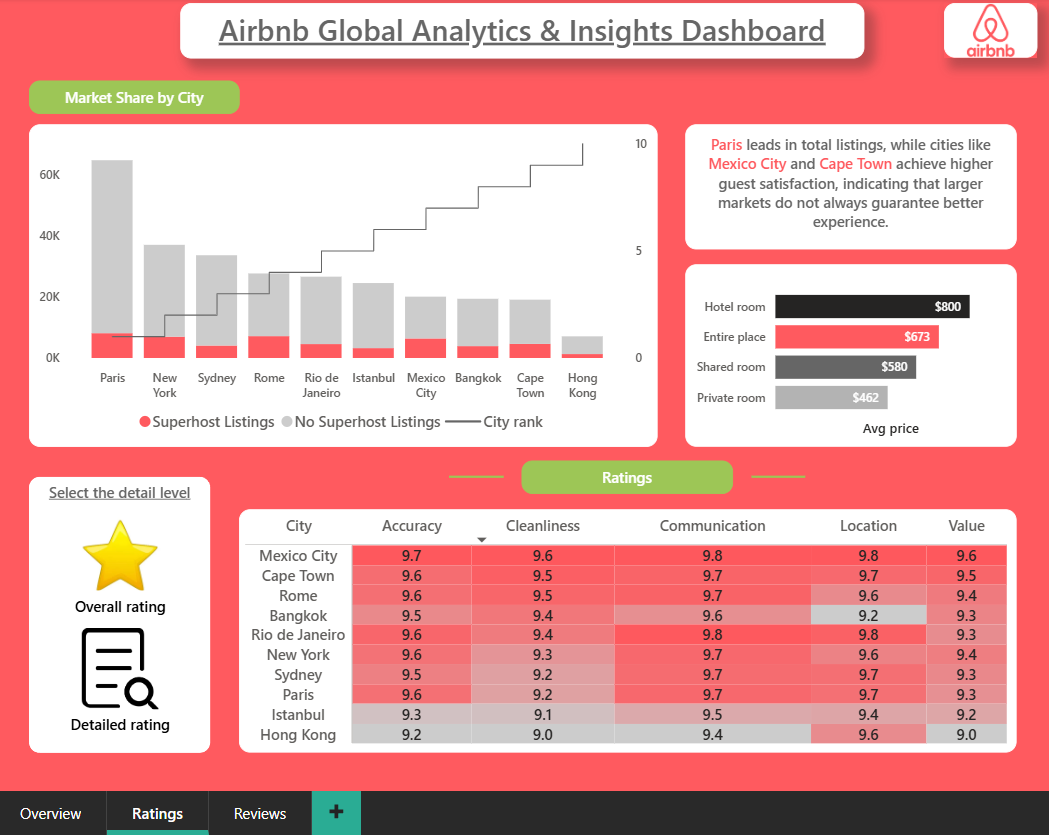

What the dashboard file says about the page in this screenshot:
{"tool":"powerbi","page":{"name":"Ratings","canvas":[960,720],"ordinal":1},"visuals":[{"type":"textbox","box":[169.4,5,621,50],"z":0},{"type":"image","box":[65.8,468.4,97.5,74.9],"z":0,"group":"g2"},{"type":"image","box":[75.2,571.6,79.6,76],"z":0,"group":"g1"},{"type":"image","box":[862,4.5,85.1,49.9],"z":1000},{"type":"textbox","box":[56.7,537.6,115.7,27.2],"z":1000,"group":"g2"},{"type":"textbox","box":[56.7,645.3,115.7,27.2],"z":1000,"group":"g1"},{"type":"textbox","box":[31.8,74.9,191,30],"z":2000},{"type":"lineStackedColumnComboChart","fields":{"Category":["Listings.city"],"Y":["Listings.Superhost Listings","Listings.No Superhost Listings"],"Y2":["Listings.City rank"]},"box":[31.8,114.6,570.5,292.6],"z":3000},{"type":"clusteredBarChart","fields":{"Category":["Listings.room_type"],"Y":["Listings.Average Price"]},"box":[627.2,241.6,300.6,165.6],"z":4000},{"type":"shape","box":[31.8,434.4,164.5,250.7],"z":5000},{"type":"shape","box":[412.9,415.1,49.9,38.6],"z":5125},{"type":"shape","box":[687.3,415.1,48.8,38.6],"z":5250},{"type":"textbox","box":[478.6,419.7,191.7,30],"z":5375},{"type":"textbox","box":[35.2,434.4,157.7,29.5],"z":5500},{"type":"pivotTable","fields":{"Rows":["Listings.city"],"Values":["Listings.Accuracy","Listings.Cleanliness","Listings.Communication","Listings.Location","Listings.Value"]},"box":[222.3,463.9,705.5,221.2],"z":8000},{"type":"group","id":"g1","title":"Group 1","box":[56.7,571.6,115.7,100.9],"z":12000},{"type":"group","id":"g2","title":"Group 2","box":[56.7,468.4,115.7,96.4],"z":13000},{"type":"textbox","box":[627.2,114.6,300.6,113.4],"z":13001}]}

Visuals, with their boxes on the page's 960x720 design canvas (x1, y1, x2, y2). These are canvas units, not pixel positions in the 1049x835 screenshot, which may show the page scaled, cropped or inside an application window:
textbox: left=169, top=5, right=790, bottom=55
image: left=66, top=468, right=163, bottom=543
image: left=75, top=572, right=155, bottom=648
image: left=862, top=4, right=947, bottom=54
textbox: left=57, top=538, right=172, bottom=565
textbox: left=57, top=645, right=172, bottom=672
textbox: left=32, top=75, right=223, bottom=105
lineStackedColumnComboChart - Listings.city x Listings.Superhost Listings: left=32, top=115, right=602, bottom=407
clusteredBarChart - Listings.room_type x Listings.Average Price: left=627, top=242, right=928, bottom=407
shape: left=32, top=434, right=196, bottom=685
shape: left=413, top=415, right=463, bottom=454
shape: left=687, top=415, right=736, bottom=454
textbox: left=479, top=420, right=670, bottom=450
textbox: left=35, top=434, right=193, bottom=464
pivotTable - Listings.city x Listings.Accuracy: left=222, top=464, right=928, bottom=685
"Group 1" group: left=57, top=572, right=172, bottom=672
"Group 2" group: left=57, top=468, right=172, bottom=565
textbox: left=627, top=115, right=928, bottom=228
